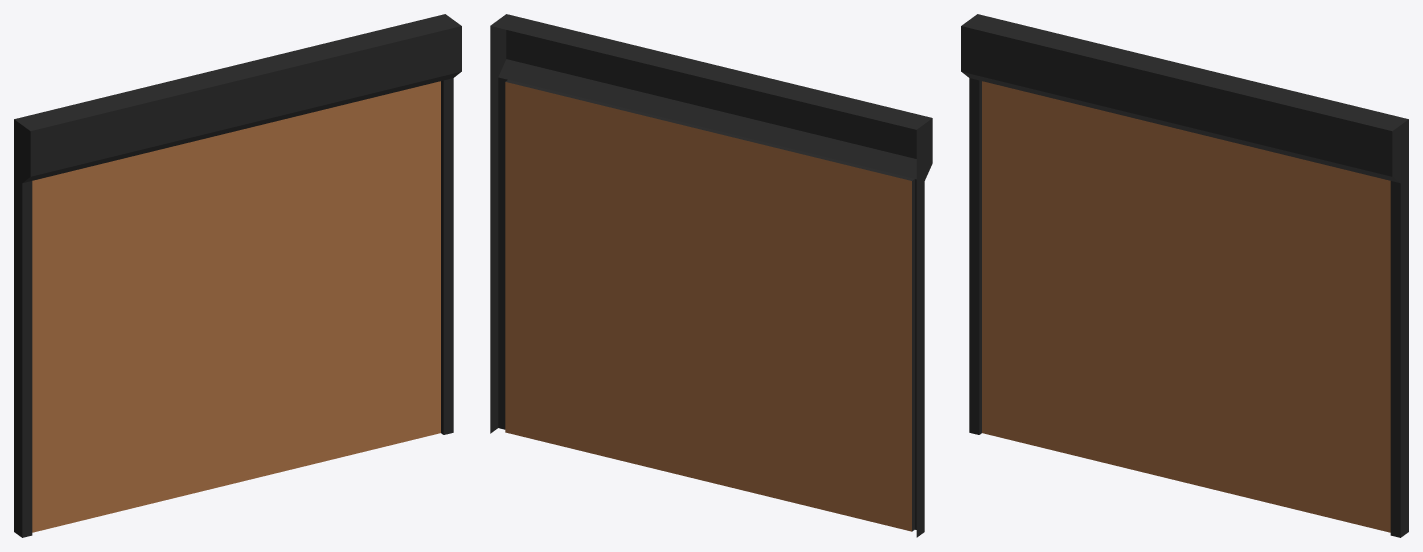
Rendered from SM_Roller_Door_01.fbx.
3 views of the same model, side by side, from view 1: azimuth 30°, elevation 25°; view 2: azimuth 150°, elevation 25°; view 3: azimuth 330°, elevation 25° (orthographic).
Parts seen in each view (by area): view 1: SM_Roller_Door_01; view 2: SM_Roller_Door_01; view 3: SM_Roller_Door_01.
Part boxes in pixels (<box>): SM_Roller_Door_01: <box>14,14,461,537</box>; SM_Roller_Door_01: <box>490,14,932,537</box>; SM_Roller_Door_01: <box>961,14,1408,537</box>.
Size of the model in its own units: 350 by 320 by 23.06.
